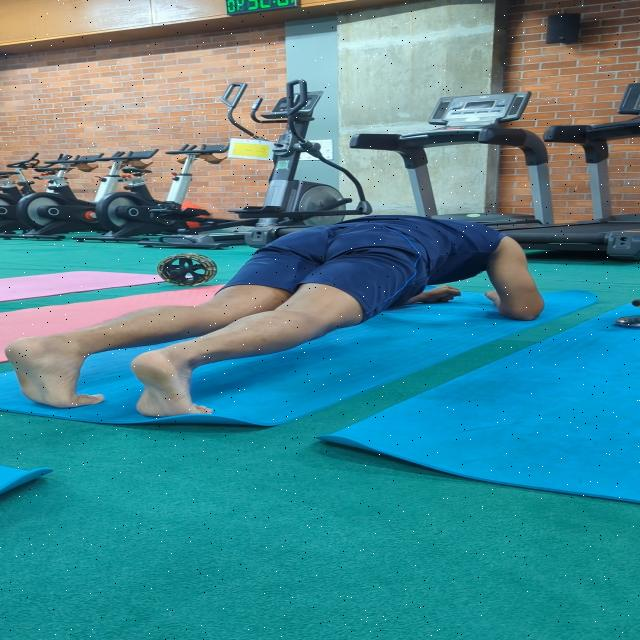Normal_Plunk: (0, 208, 556, 437)
